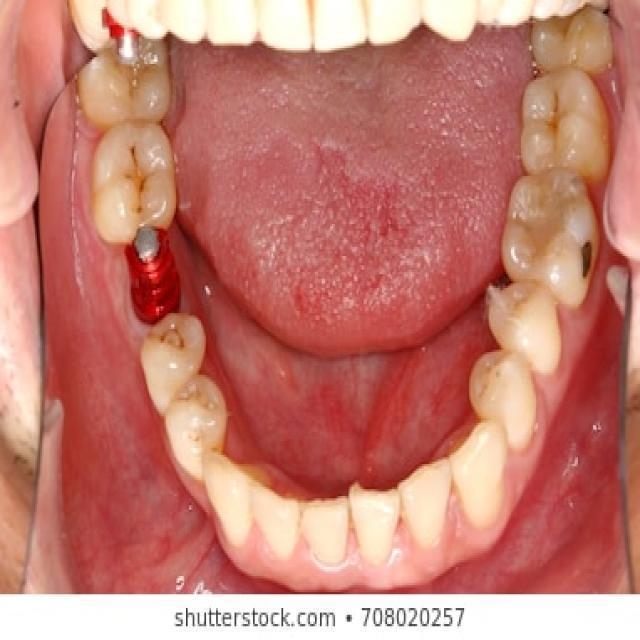caries: (122, 139, 165, 220), (154, 317, 189, 357), (580, 240, 594, 284)
